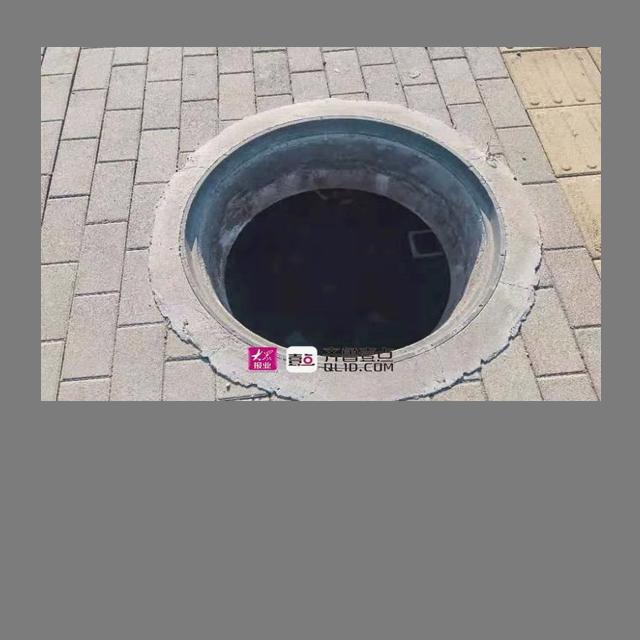lose: (148, 97, 543, 393)
